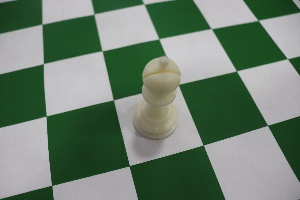white_bishop: (119, 48, 184, 146)
